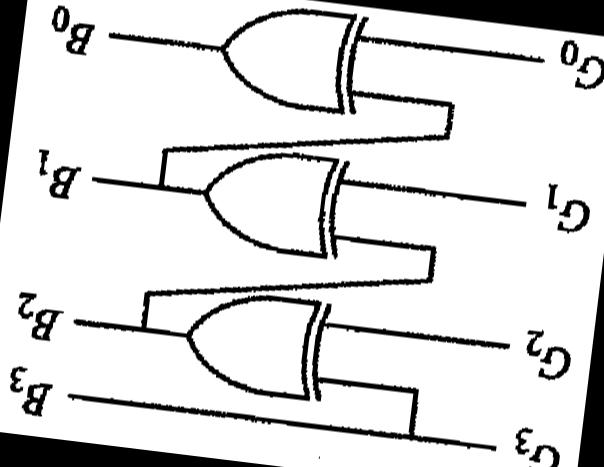xor: (187, 134, 356, 266), (172, 278, 339, 408), (206, 0, 374, 120)
